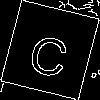C: (25, 25, 74, 80)
